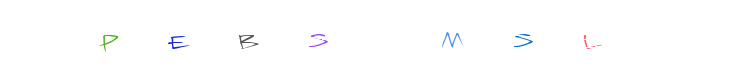8: (300, 0, 380, 80)
B: (274, 0, 354, 80)
E: (206, 0, 286, 80)
L: (369, 0, 449, 80)
M: (307, 0, 387, 80)
P: (68, 0, 148, 80)
S: (279, 0, 359, 80), (335, 0, 415, 80)
